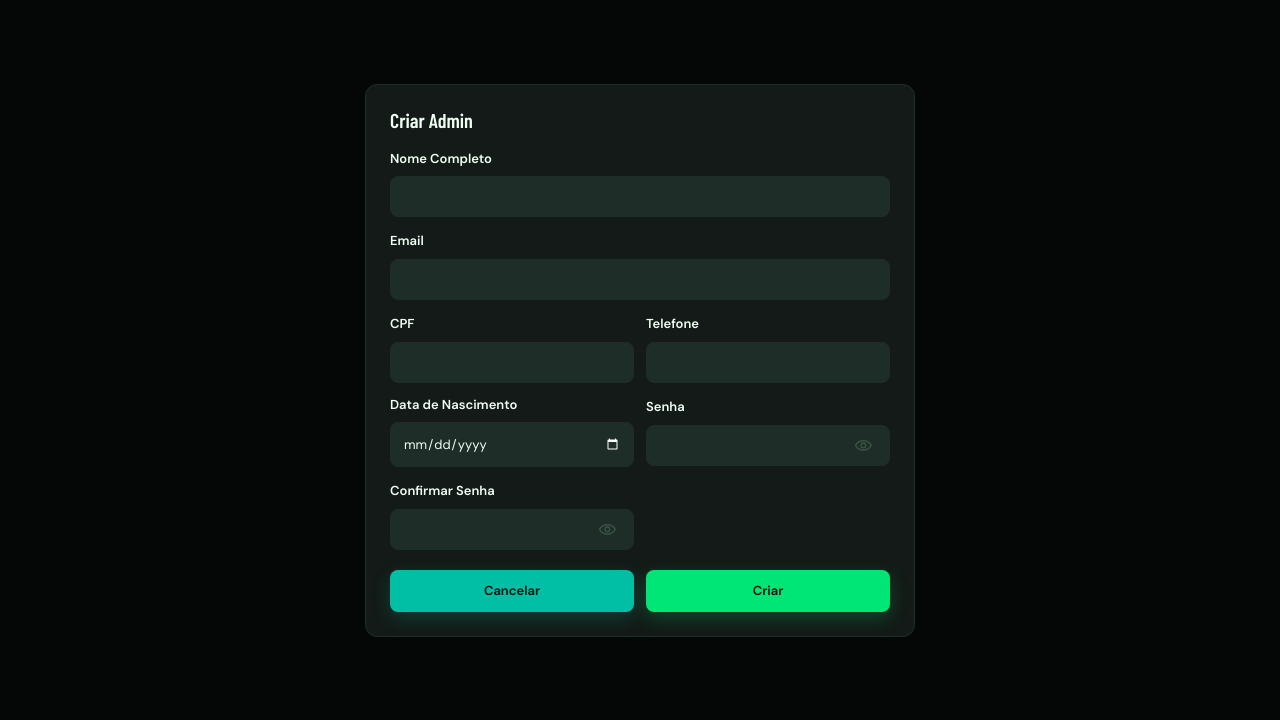
Test: AdminFormModal: modo criacao › mostra erros de validacao quando o formulario e enviado vazio
Click the button "Criar": (768, 591) [646, 570, 890, 612]
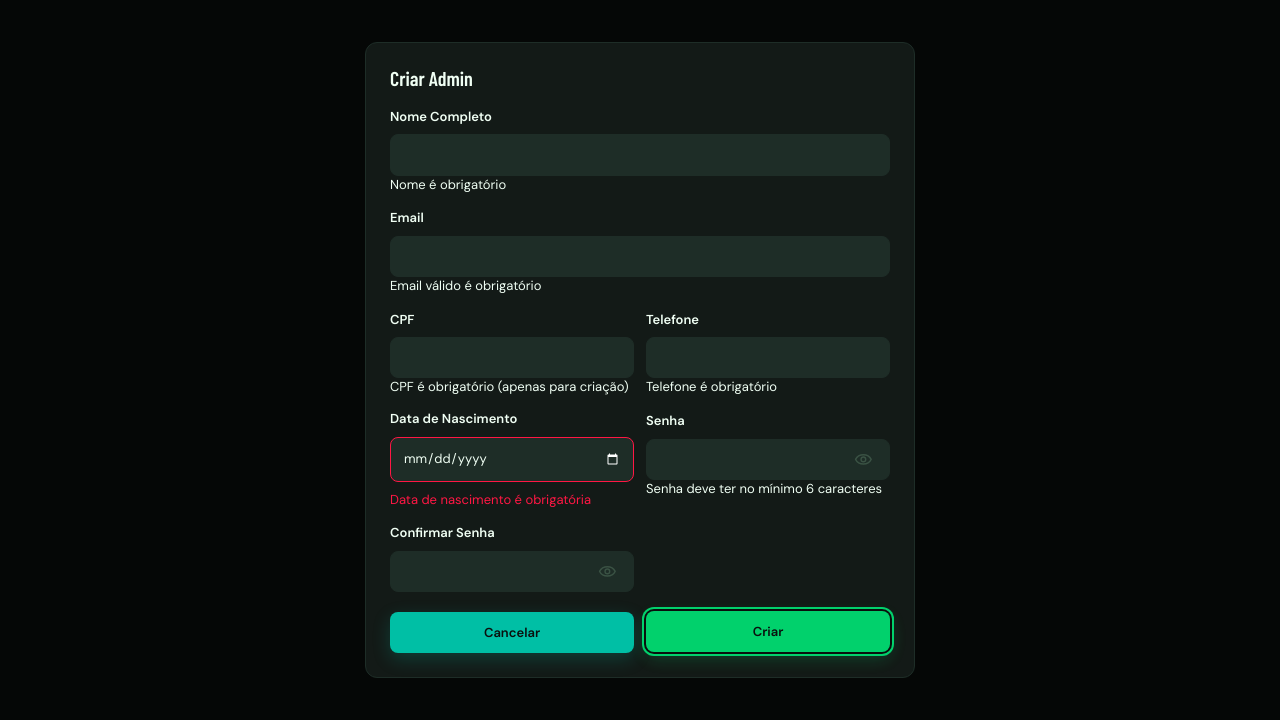
expect the text "Nome é obrigatório" is shown: met, box [390, 176, 506, 193]
expect the text "Email válido é obrigatório" is shown: met, box [390, 277, 541, 294]
expect the text "CPF é obrigatório (apenas para criação)" is shown: met, box [390, 378, 634, 397]
